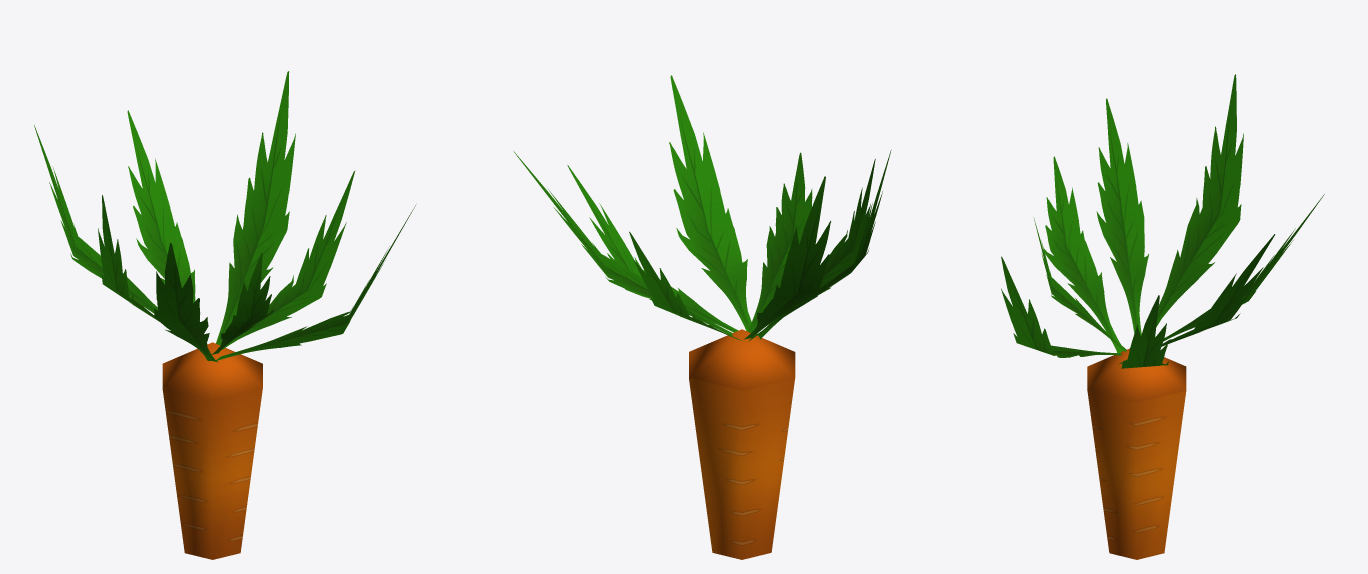
Rendered from carrots.fbx.
The picture shows the model from 3 angles, left to right: view 1: azimuth 30°, elevation 25°; view 2: azimuth 150°, elevation 25°; view 3: azimuth 270°, elevation 25°; orthographic projection. The views are drawn at different scales.
Visible parts, largest first — view 1: polySurface11; view 2: polySurface11; view 3: polySurface11.
Part boxes in pixels (x1,y1,x2,y2): polySurface11: (34, 71, 415, 559); polySurface11: (513, 75, 891, 559); polySurface11: (1001, 74, 1324, 559).
Bounding box in the file's own units: 6.08 × 7.37 × 6.01.
